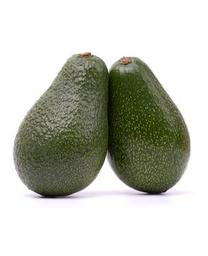avocado: (13, 53, 109, 197), (109, 57, 190, 193)
